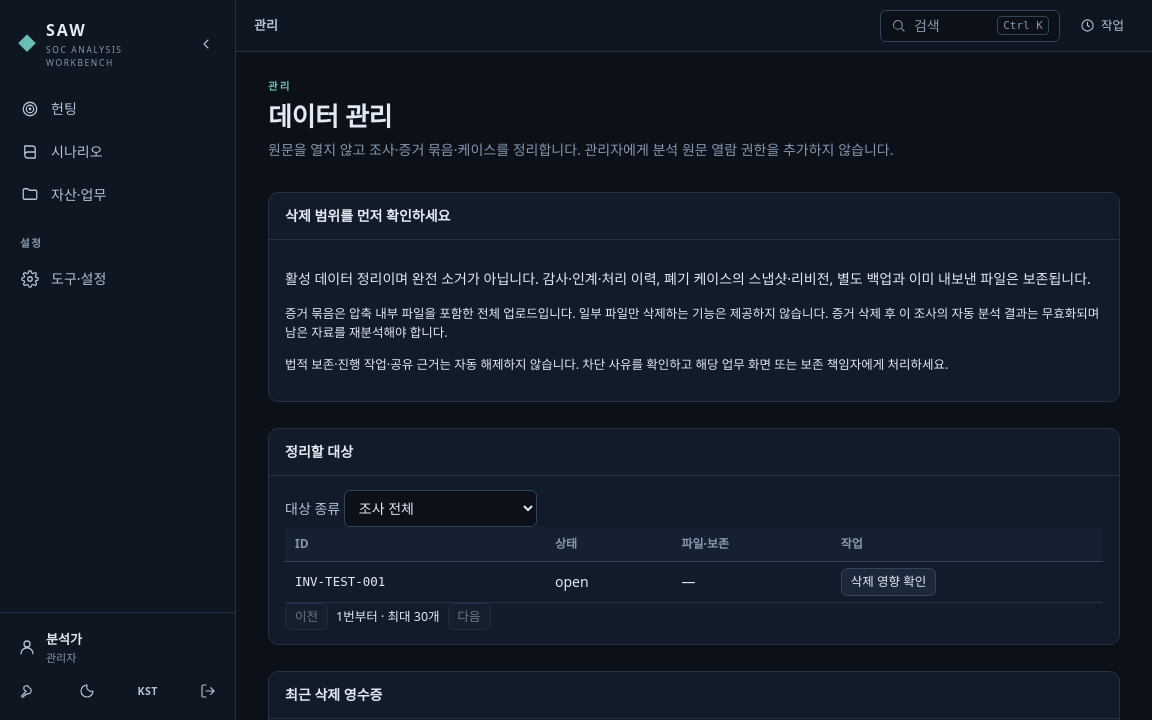
Test: shows legal hold blocker and never enables deletion
Click the button "삭제 영향 확인" at (888, 582), box x1=841 y1=568 x2=936 y2=596
(page scrolled)
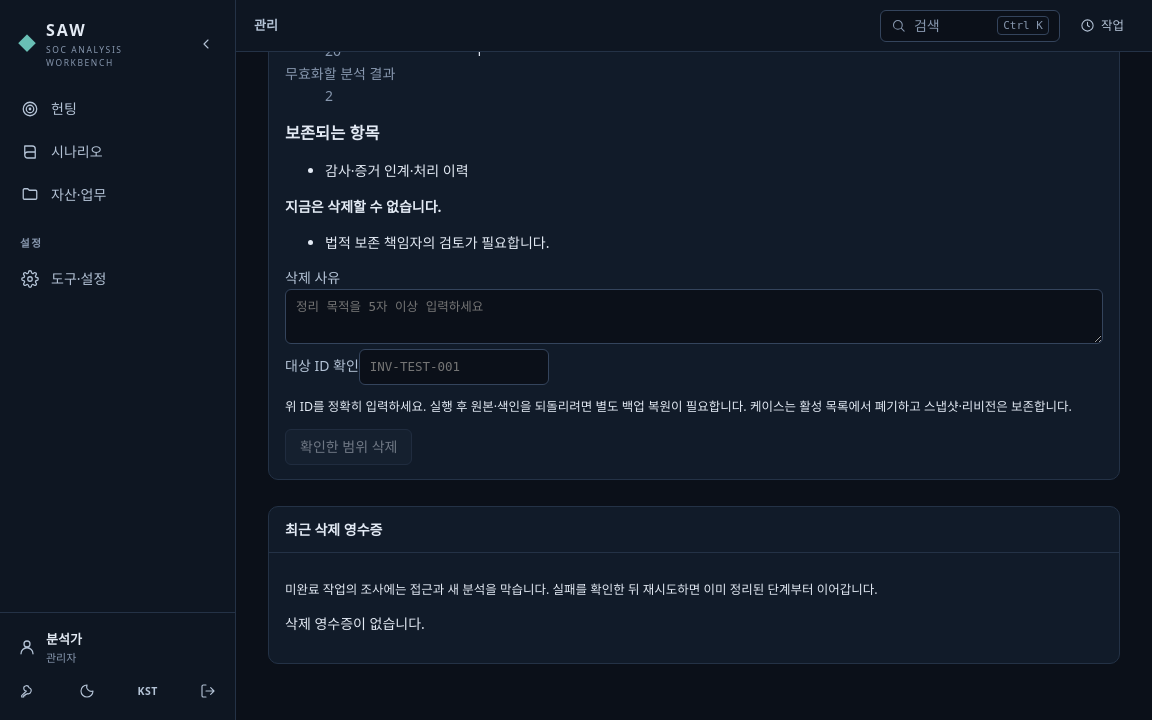
Check: the list item "법적 보존 책임자의 검토가 필요합니다." is shown, box x1=325 y1=232 x2=549 y2=252
Check: the button "확인한 범위 삭제" is disabled, box x1=285 y1=429 x2=412 y2=465
